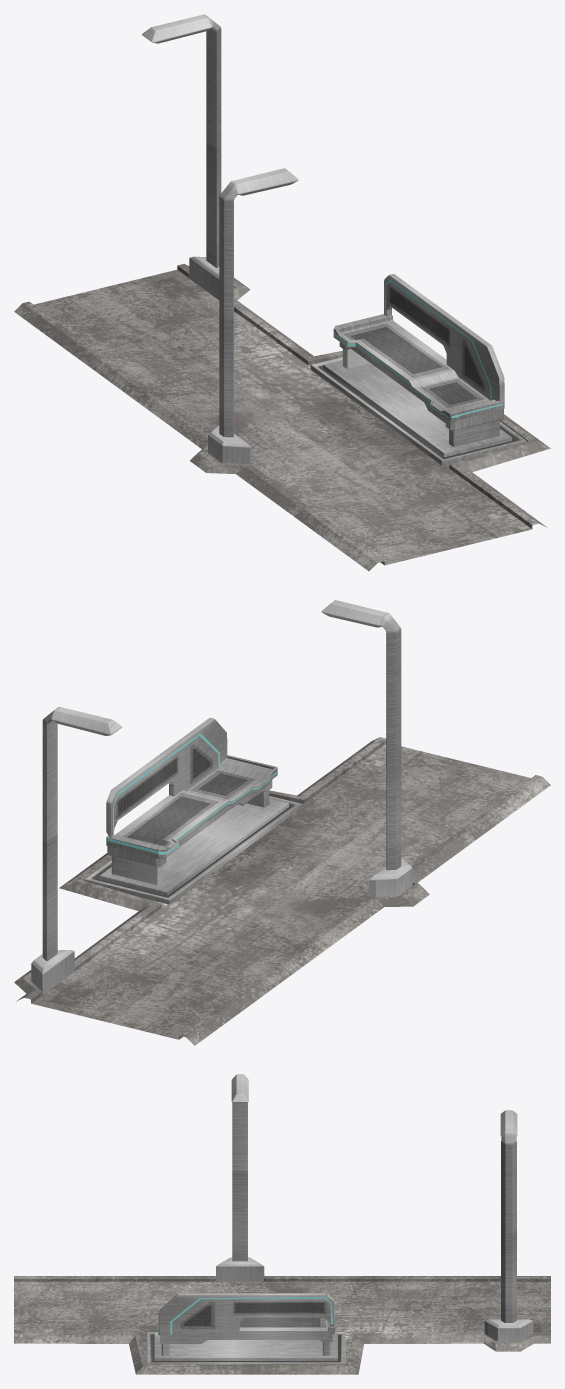
File: PadMetBankje 1.fbx
3 renders of one model, top to bottom at view 1: azimuth 30°, elevation 25°; view 2: azimuth 150°, elevation 25°; view 3: azimuth 270°, elevation 25°, orthographic. The views are drawn at different scales.
Parts seen in each view (by area): view 1: polySurface3, polySurface5, pCube19, pCube23, polySurface19, polySurface25, pCube22, pCube21; view 2: polySurface3, polySurface5, pCube23, pCube19, polySurface25, polySurface19, pCube22, pCube21; view 3: polySurface5, polySurface3, pCube22, pCube23, polySurface25, polySurface19, pCube19.
Part boxes in pixels (x1,y1,x2,y2): polySurface3: (14, 287, 458, 571); polySurface5: (104, 264, 550, 547); pCube19: (333, 314, 504, 421); pCube23: (310, 357, 526, 465); polySurface19: (208, 168, 298, 464); polySurface25: (142, 14, 221, 299); pCube22: (384, 274, 504, 408); pCube21: (339, 342, 503, 446); polySurface3: (105, 761, 550, 1045); polySurface5: (14, 737, 460, 1021); pCube23: (84, 796, 301, 904); pCube19: (106, 755, 277, 858); polySurface25: (31, 707, 121, 994); polySurface19: (321, 600, 412, 896); pCube22: (106, 717, 227, 837); pCube21: (107, 779, 272, 885); polySurface5: (14, 1309, 550, 1374); polySurface3: (14, 1276, 550, 1308); pCube22: (159, 1293, 333, 1335); pCube23: (147, 1332, 345, 1364); polySurface25: (484, 1110, 533, 1340); polySurface19: (216, 1074, 264, 1281); pCube19: (158, 1308, 334, 1343).
Bounding box in the file's own units: 6.87 × 6.38 × 14.89.
